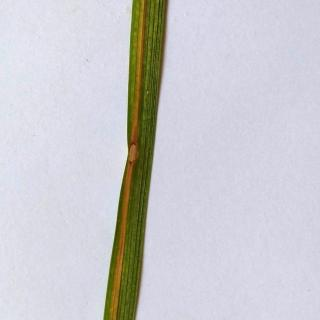Blast: (125, 132, 150, 185)
